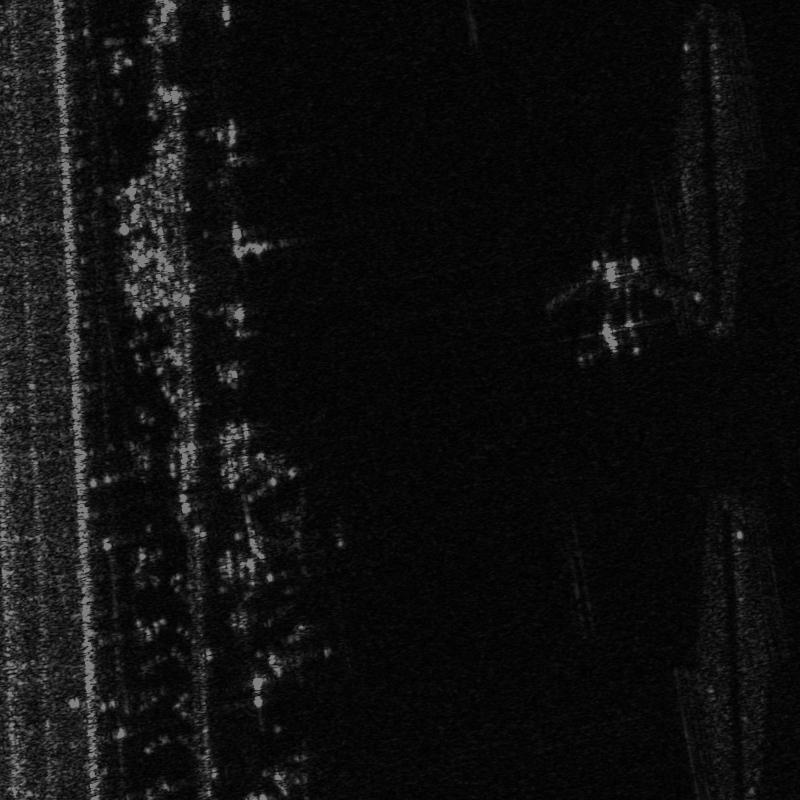A220: (239, 485, 353, 597)
other: (543, 250, 684, 377), (250, 612, 356, 694), (262, 734, 340, 799)
